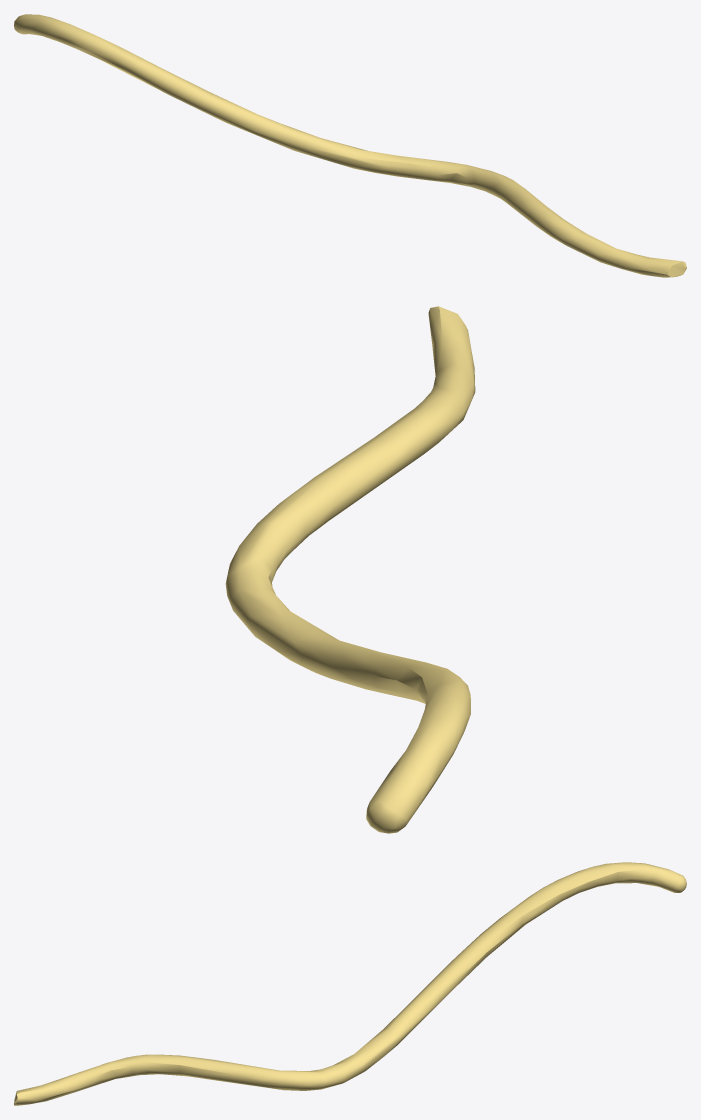
Rendered from fma65426_fj3968.glb.
The picture shows the model from 3 angles, top to bottom: view 1: azimuth 30°, elevation 25°; view 2: azimuth 150°, elevation 25°; view 3: azimuth 270°, elevation 25°; orthographic projection. The views are drawn at different scales.
Visible parts, largest first — view 1: FMA65426_FJ3968; view 2: FMA65426_FJ3968; view 3: FMA65426_FJ3968.
Part boxes in pixels (x1=…): FMA65426_FJ3968: x1=14, y1=14, x2=686, y2=277; FMA65426_FJ3968: x1=225, y1=306, x2=475, y2=833; FMA65426_FJ3968: x1=14, y1=862, x2=686, y2=1105.
Size of the model in its own units: 0.0185 by 0.0059 by 0.0338.
